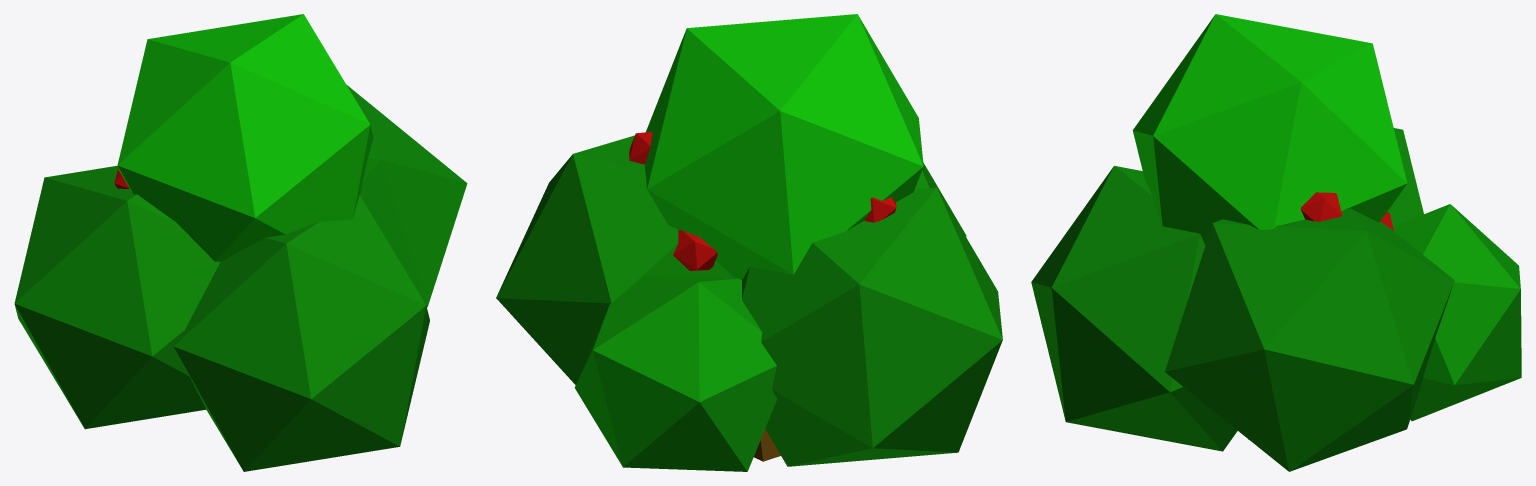
File: livingbush3.fbx
3 views of the same model, side by side, from view 1: azimuth 30°, elevation 25°; view 2: azimuth 150°, elevation 25°; view 3: azimuth 270°, elevation 25° (orthographic). The views are drawn at different scales.
Visible parts, largest first — view 1: Cube.002; view 2: Cube.002; view 3: Cube.002.
Part boxes in pixels (box(x1,y1,x2,y2)): Cube.002: box(14, 14, 467, 471); Cube.002: box(496, 14, 1002, 471); Cube.002: box(1031, 14, 1521, 471).
Bounding box in the file's own units: 238 × 202 × 227.
